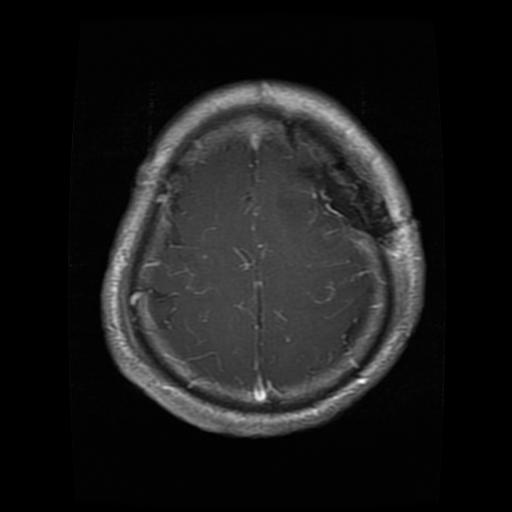Gliomia_tumour: (291, 120, 385, 235)
